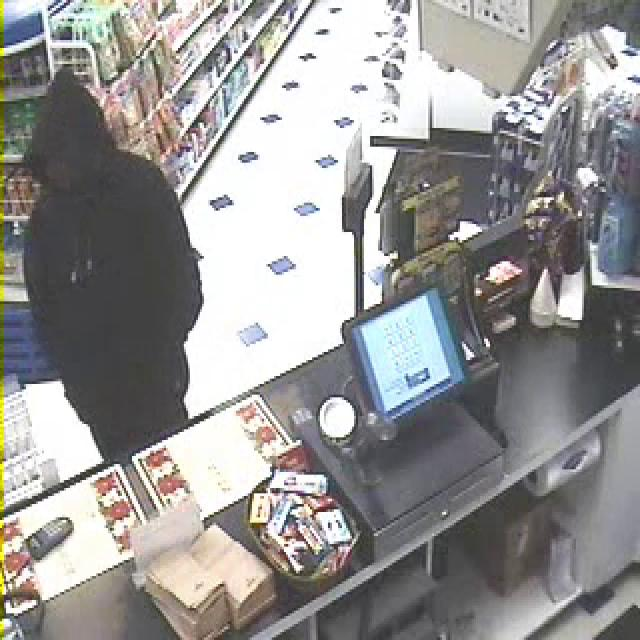robbery: (10, 63, 265, 498)
